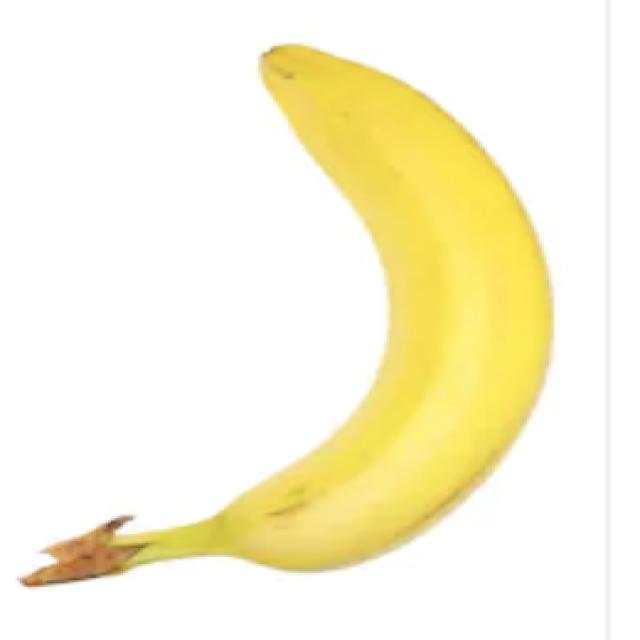fresh-banana: (17, 41, 554, 587)
